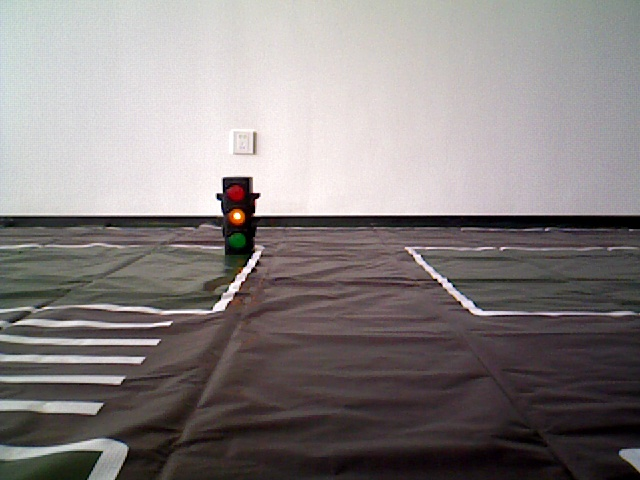yellow: (221, 180, 254, 258)
